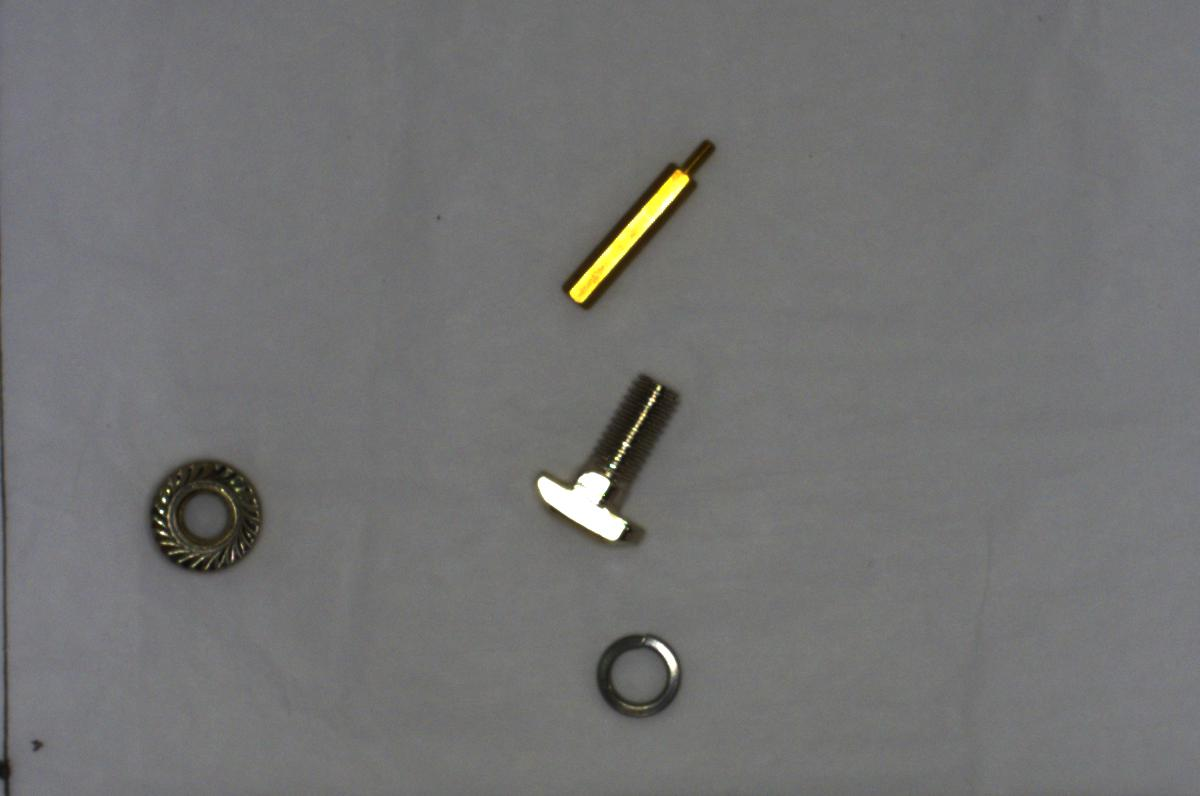Flange nut: (134, 450, 279, 581)
Hexagon pillar: (548, 129, 721, 318)
Spring washer: (586, 620, 687, 722)
T-shaped screw: (530, 359, 680, 556)
